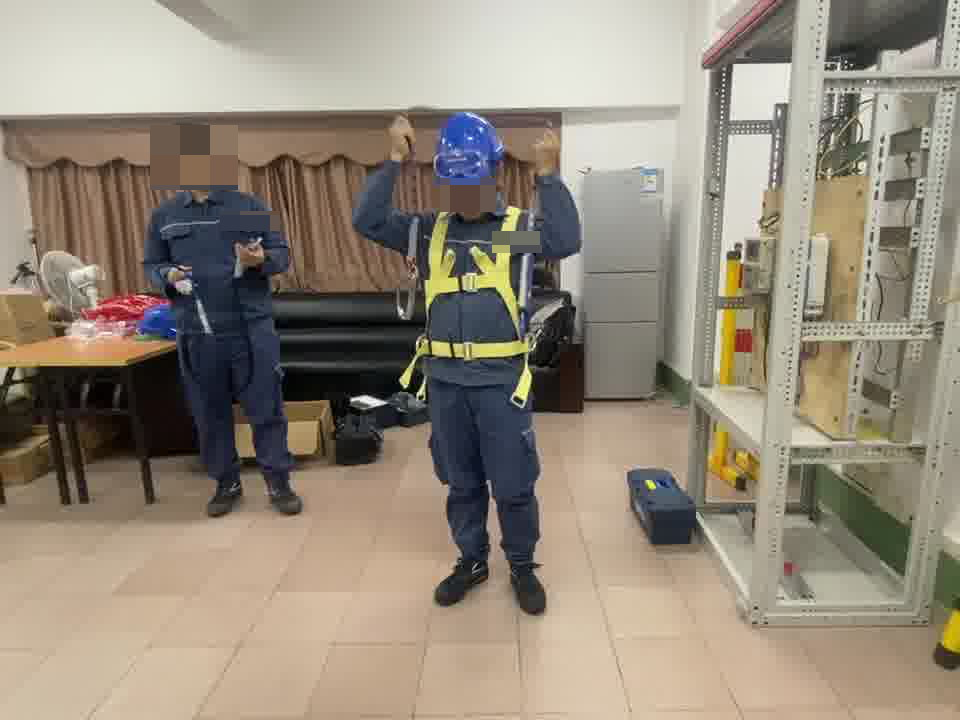downsuit: (429, 392, 544, 565), (182, 337, 295, 484)
halt: (434, 112, 509, 208), (165, 120, 226, 188)
hand: (388, 116, 415, 160), (534, 130, 559, 172), (232, 239, 266, 267), (168, 264, 192, 284)
noear: (165, 149, 205, 183)
person: (354, 108, 584, 610), (141, 119, 307, 512)
safebelt: (409, 209, 535, 408)
unhalt: (164, 120, 226, 190)
upsuit: (359, 170, 581, 386), (146, 186, 287, 327)
